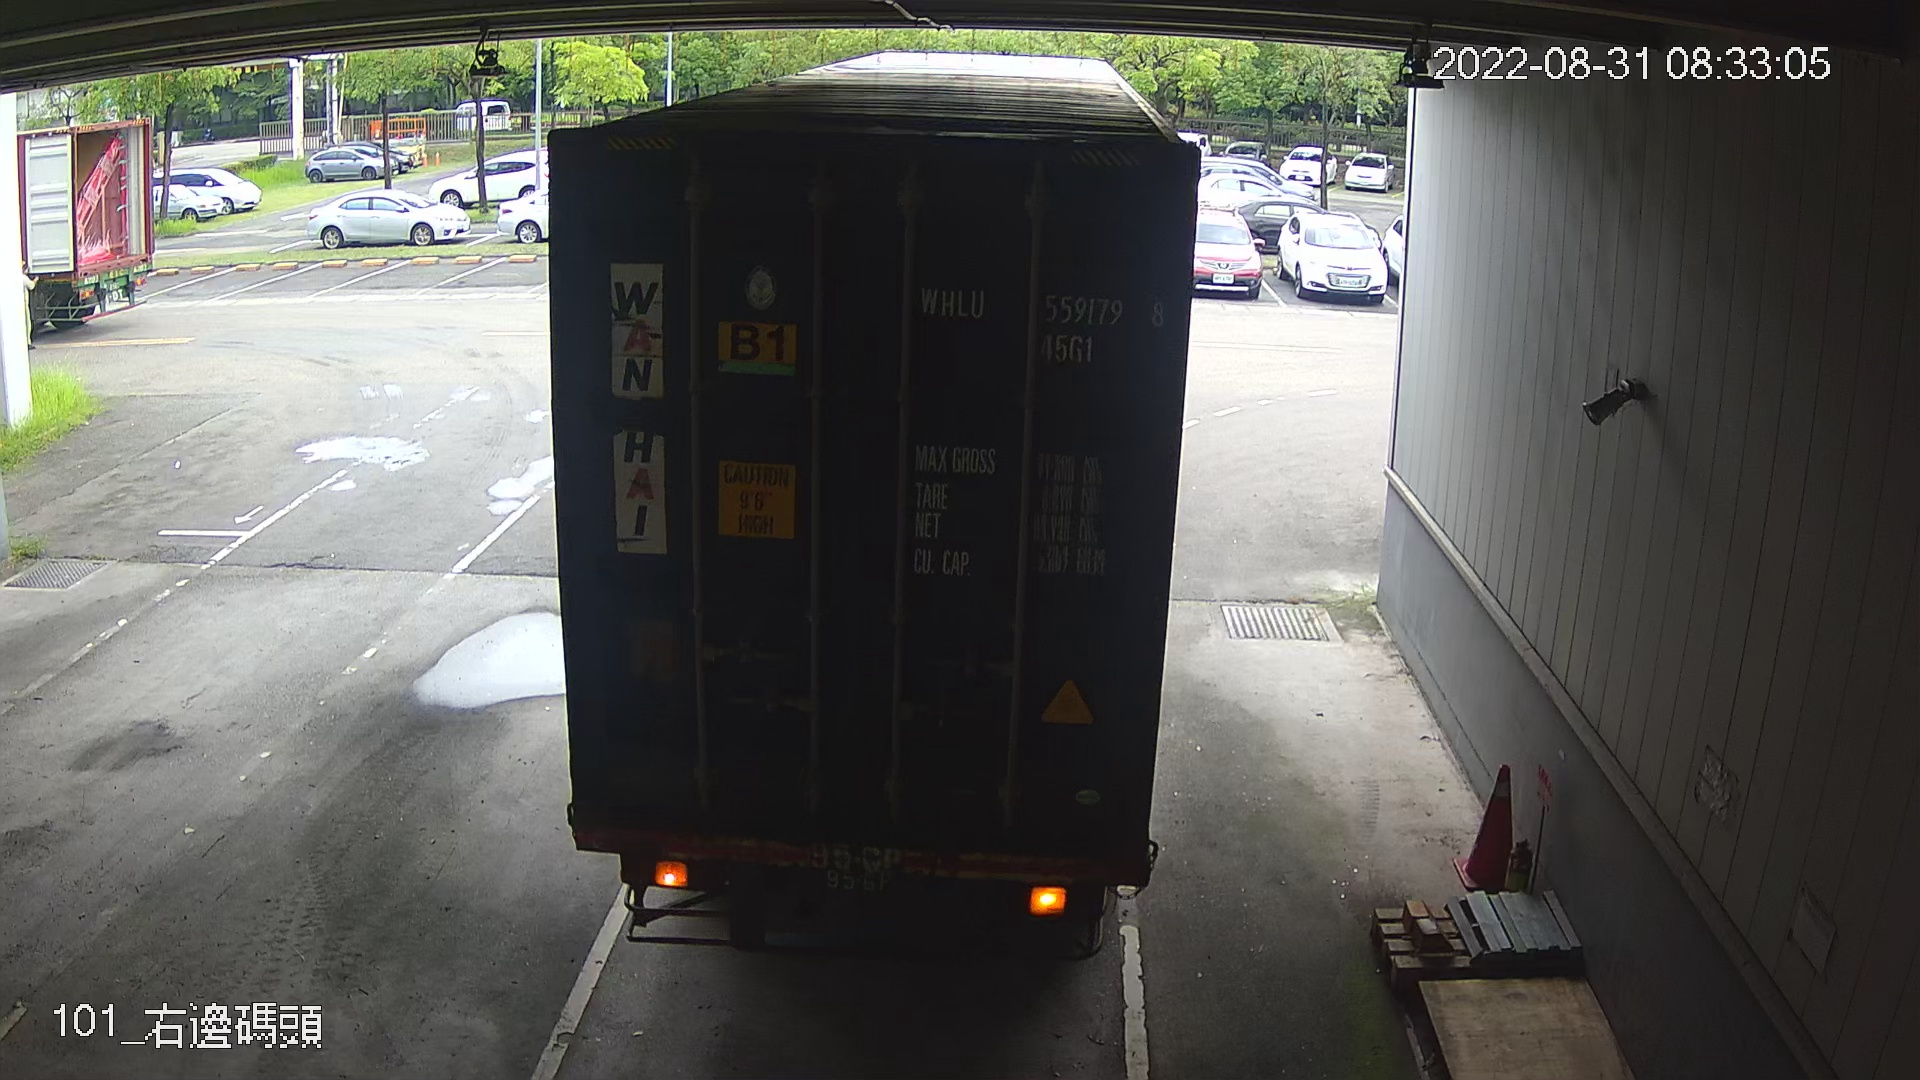container: (910, 266, 1182, 369)
